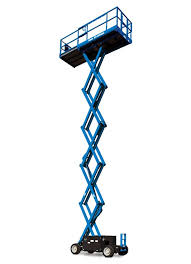Scissor Lift: (58, 6, 133, 258)
